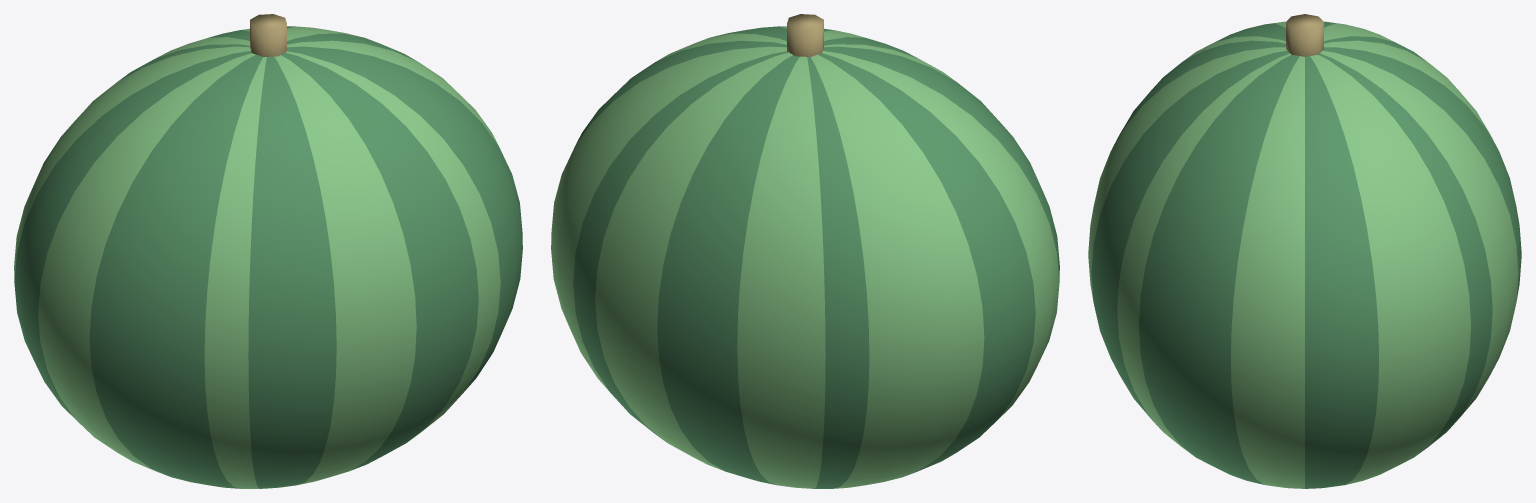
File: Watermelon.glb
3 views of the same model, side by side, from view 1: azimuth 30°, elevation 25°; view 2: azimuth 150°, elevation 25°; view 3: azimuth 270°, elevation 25° (orthographic).
Parts seen in each view (by area): view 1: Watermelon; view 2: Watermelon; view 3: Watermelon.
Part boxes in pixels (x1,y1,x2,y2): Watermelon: (14, 14, 522, 488); Watermelon: (551, 14, 1059, 488); Watermelon: (1088, 14, 1521, 488).
Size of the model in its own units: 1.38 by 1.28 by 1.14.
